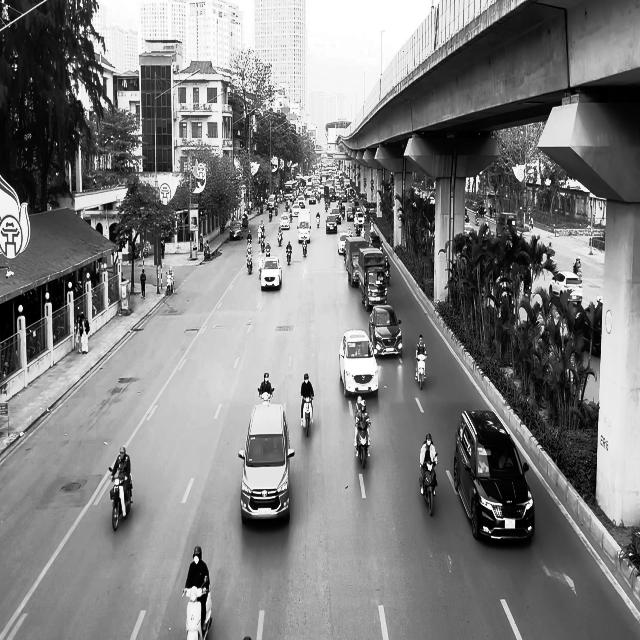car: (453, 408, 535, 544), (238, 401, 295, 523), (339, 329, 379, 397), (368, 304, 402, 357), (549, 270, 583, 306), (259, 256, 282, 290), (229, 220, 243, 240)
motorbike: (182, 578, 212, 639), (108, 467, 133, 530), (419, 452, 438, 516), (354, 418, 370, 469), (300, 395, 314, 437), (415, 354, 427, 389), (257, 386, 274, 405), (286, 242, 292, 264), (302, 238, 307, 257)
